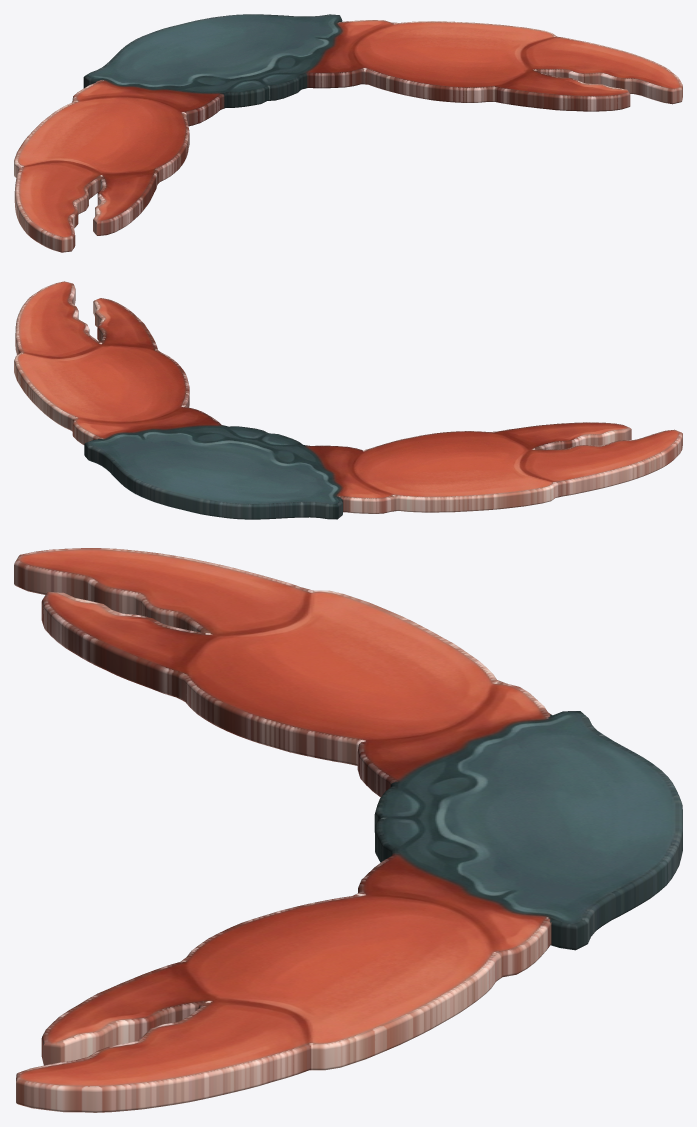
File: Boomerang_51.fbx
3 views of the same model, one above another, from view 1: azimuth 30°, elevation 25°; view 2: azimuth 150°, elevation 25°; view 3: azimuth 270°, elevation 25° (orthographic). The views are drawn at different scales.
Visible parts, largest first — view 1: Boomerang_51; view 2: Boomerang_51; view 3: Boomerang_51.
Part boxes in pixels (x1,y1,x2,y2): Boomerang_51: (14, 14, 682, 252); Boomerang_51: (14, 281, 682, 519); Boomerang_51: (14, 548, 682, 1112).
Size of the model in its own units: 202 by 4.4 by 105.
Materials: 1 (1 with a texture image).
